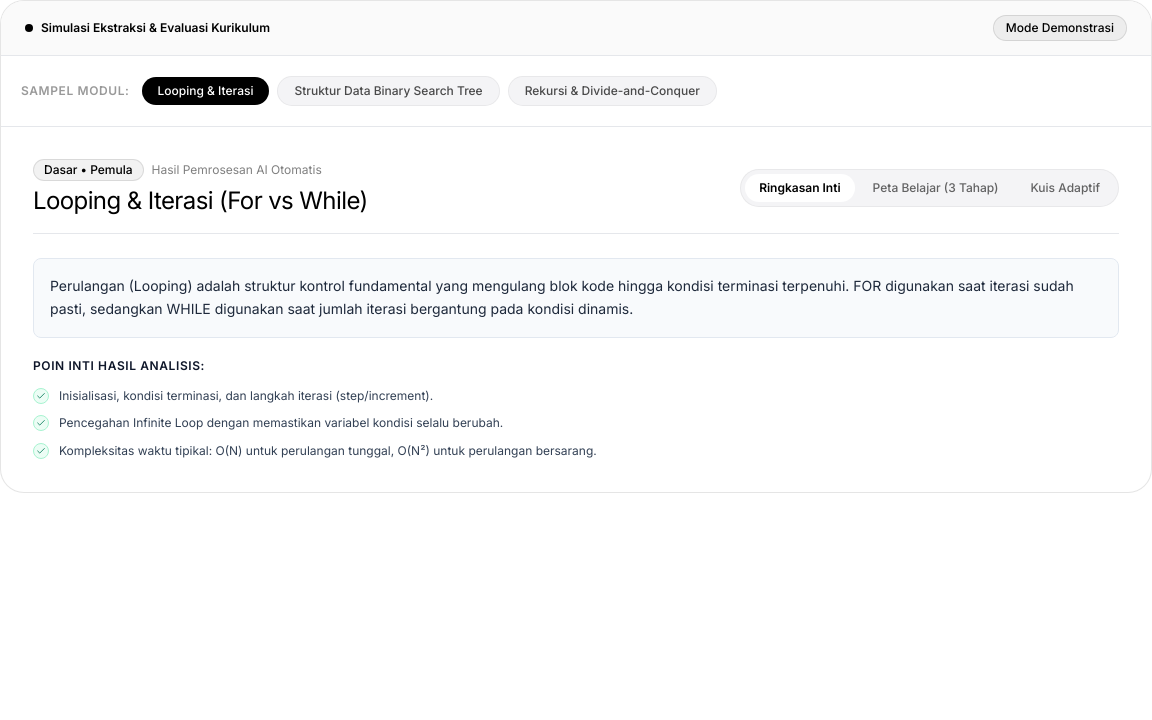
Scenario: Landing Page Components & User Interactivity › InteractiveAiDemo Component › should handle quiz answer selection and show instant explanation
Go to quiz tab
What coordinates should you click on to do the following:
click the tab "Kuis Adaptif"
I would click on:
 (1065, 188)
Its box is [1016, 174, 1114, 202].
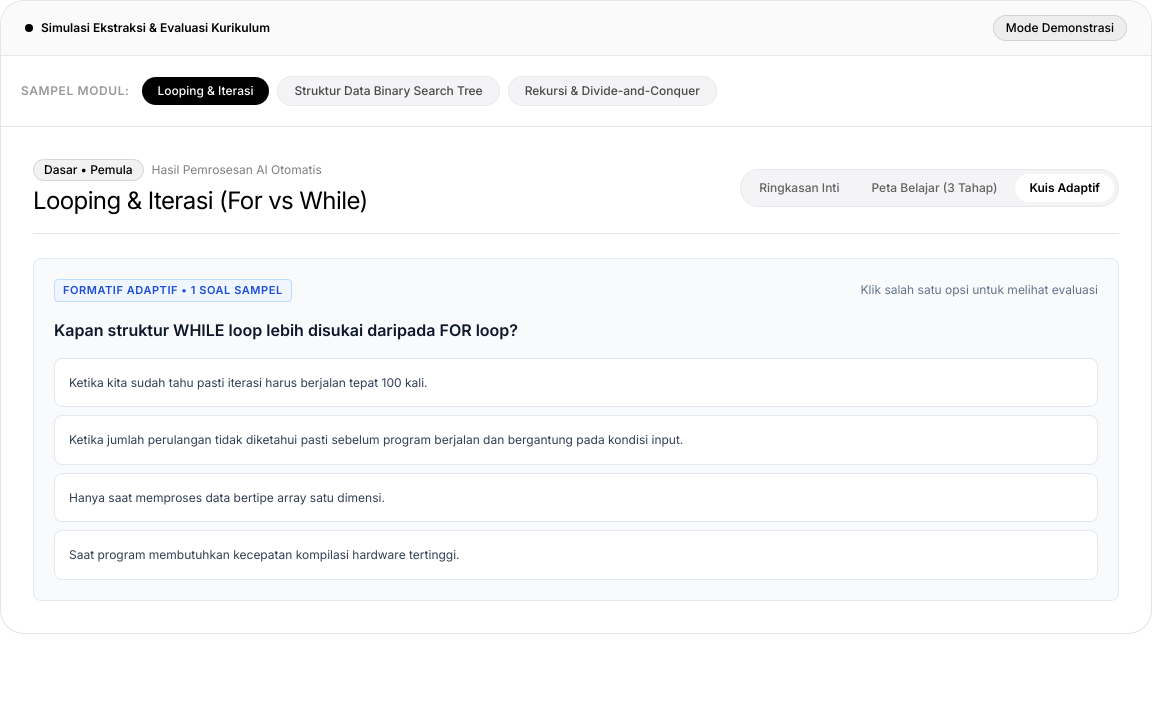
What coordinates should you click on to do the following:
click the button "Ketika jumlah perulangan tidak diketahui pasti sebelum program berjalan"
I would click on:
 (576, 440)
Its box is [54, 415, 1098, 464].
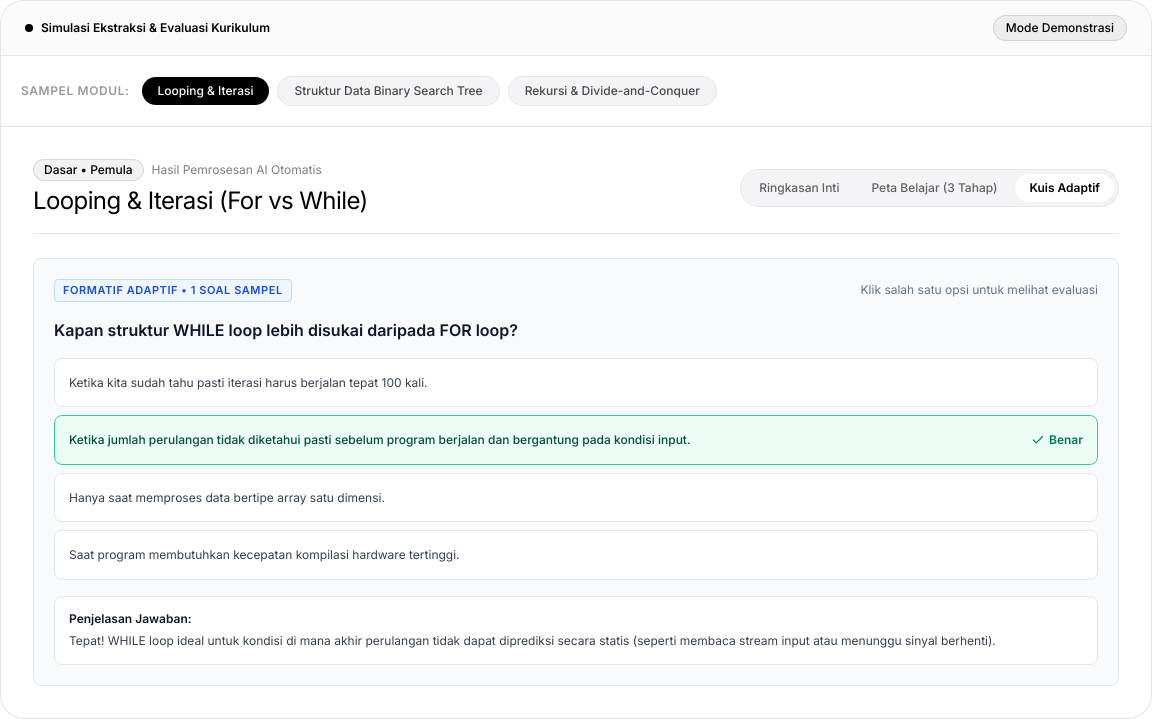
Result: the text "Benar" is shown at [1049, 432, 1083, 448]
Result: the text "Penjelasan Jawaban:" is shown at [69, 610, 192, 626]
